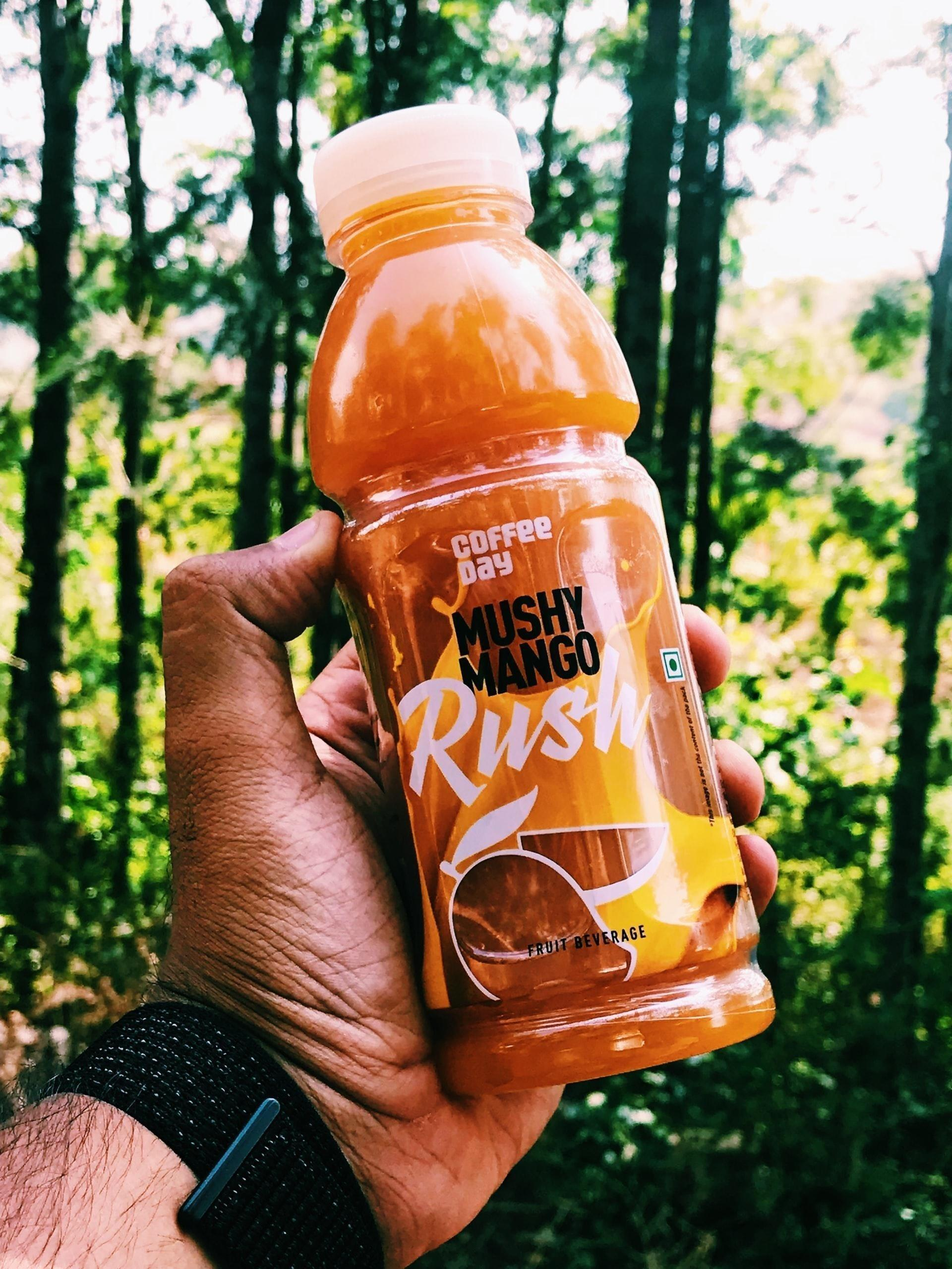bottle-plastic: (291, 89, 782, 1110)
